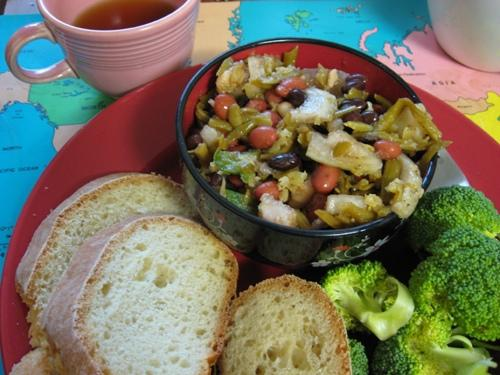broccoli: (371, 306, 497, 375), (320, 260, 415, 340), (408, 184, 500, 260), (348, 337, 370, 375)
